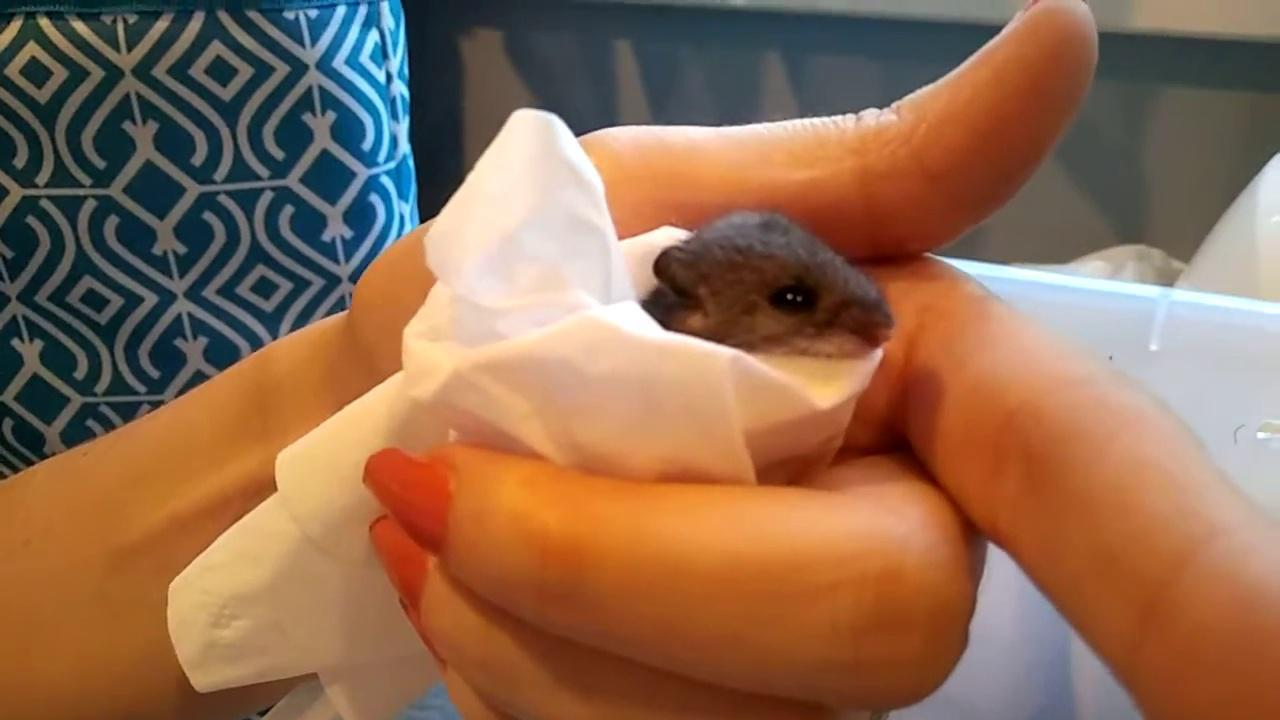rat: (637, 208, 899, 361)
